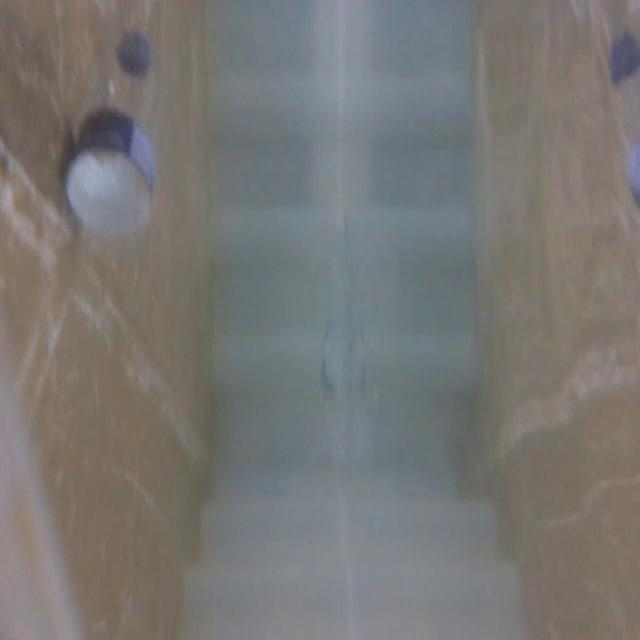plastic bottle: (48, 25, 174, 316), (594, 16, 639, 228)
